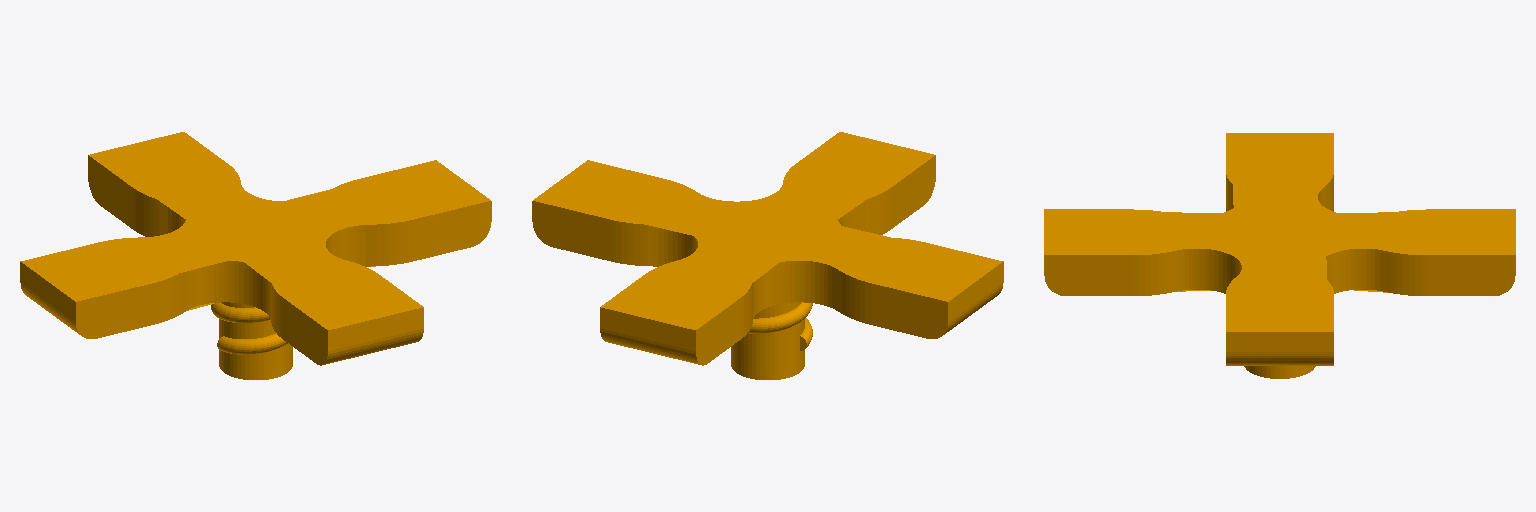
URDF robot description (oval_table_base):
<?xml version="1.0"?>
<robot name="oval_table_base">
    <link name="oval_table_base">
        <visual>
            <geometry>
                <mesh filename="../mesh/oval_table/round_table_base.obj" scale="1 1 1"/>
            </geometry>
        </visual>
        <collision>
            <geometry>
                <mesh filename="../mesh/oval_table/round_table_base.obj" scale="1 1 1"/>
            </geometry>
            <sdf resolution="512"/>
        </collision>
        <!-- <inertial>
            <mass value="1."/>
            <inertia ixx="0.0001" ixy="0.0" ixz="0.0" iyy="0.0001" iyz="0.0" izz="0.0001"/>
        </inertial> -->
    </link>
</robot>

--- What the picture shows (computed from the rendered views, not written in the file) ---
The picture shows the robot from 3 angles, left to right: view 1: azimuth 30°, elevation 25°; view 2: azimuth 150°, elevation 25°; view 3: azimuth 270°, elevation 25°; orthographic projection.
Model oval_table_base with 1 links and 0 joints (none), rooted at oval_table_base, posed every joint at zero.
Visible links, largest first — view 1: oval_table_base; view 2: oval_table_base; view 3: oval_table_base.
Boxes of the visible links, left/top/right/bottom form: oval_table_base: left=20, top=132, right=491, bottom=379; oval_table_base: left=532, top=132, right=1003, bottom=379; oval_table_base: left=1044, top=133, right=1515, bottom=378.
Size in the robot's own frame: 0.13 by 0.13 by 0.04 metres.
1 mesh visuals loaded from 1 distinct referenced files (1 OBJ).